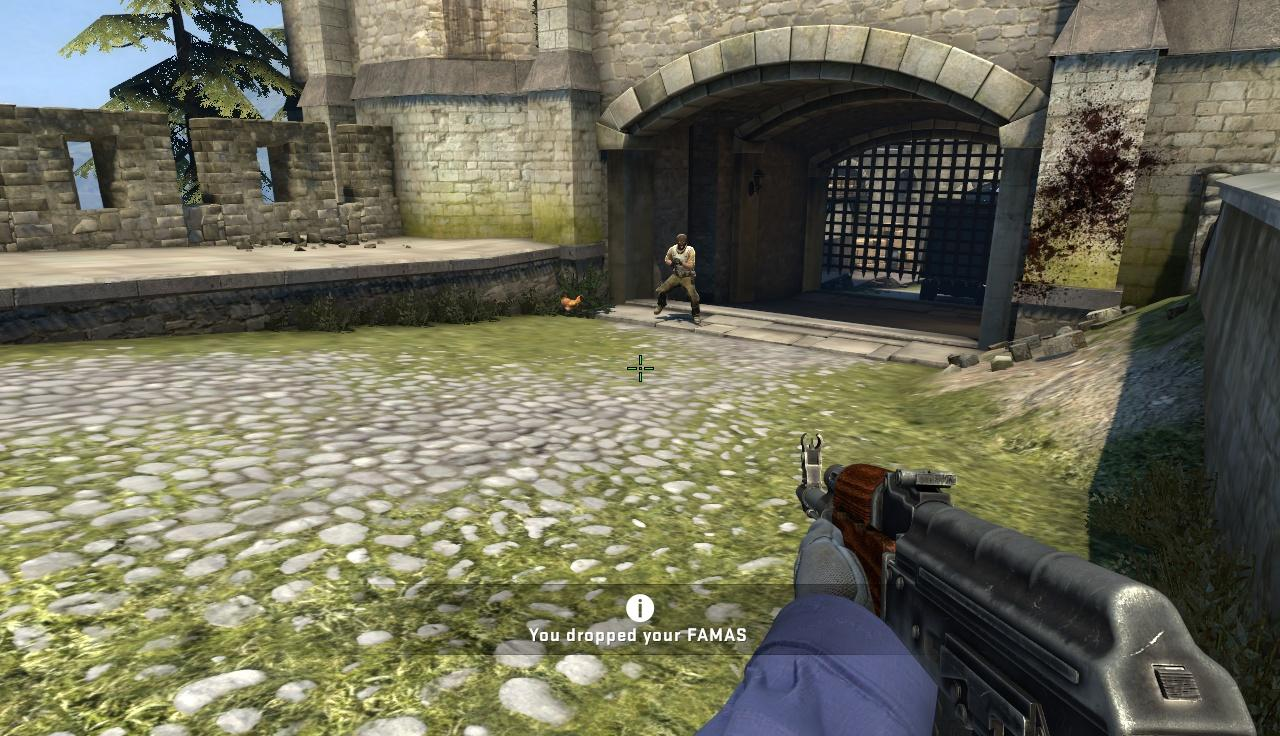rifle: (799, 428, 1279, 731)
tt: (660, 234, 701, 324)
tthead: (676, 234, 688, 249)
